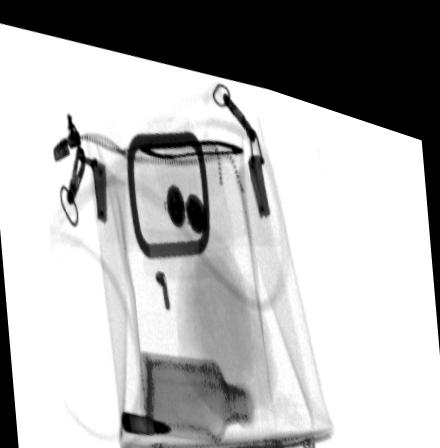Bullet: (118, 401, 174, 427)
